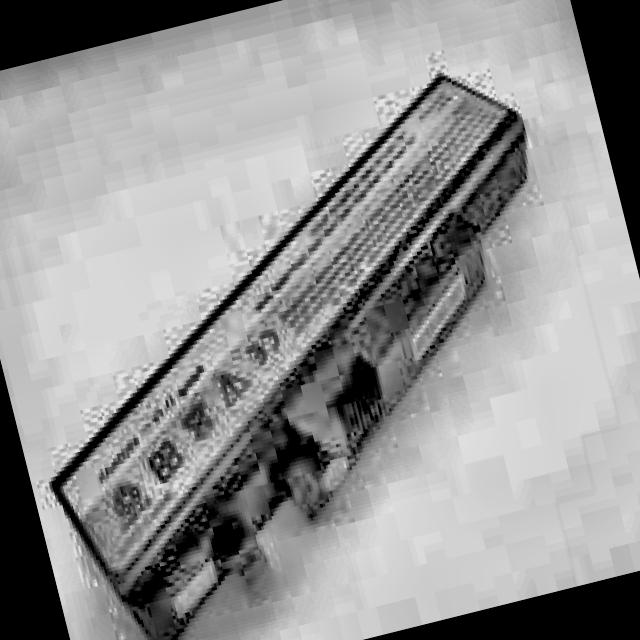Battery: (0, 60, 620, 640)
